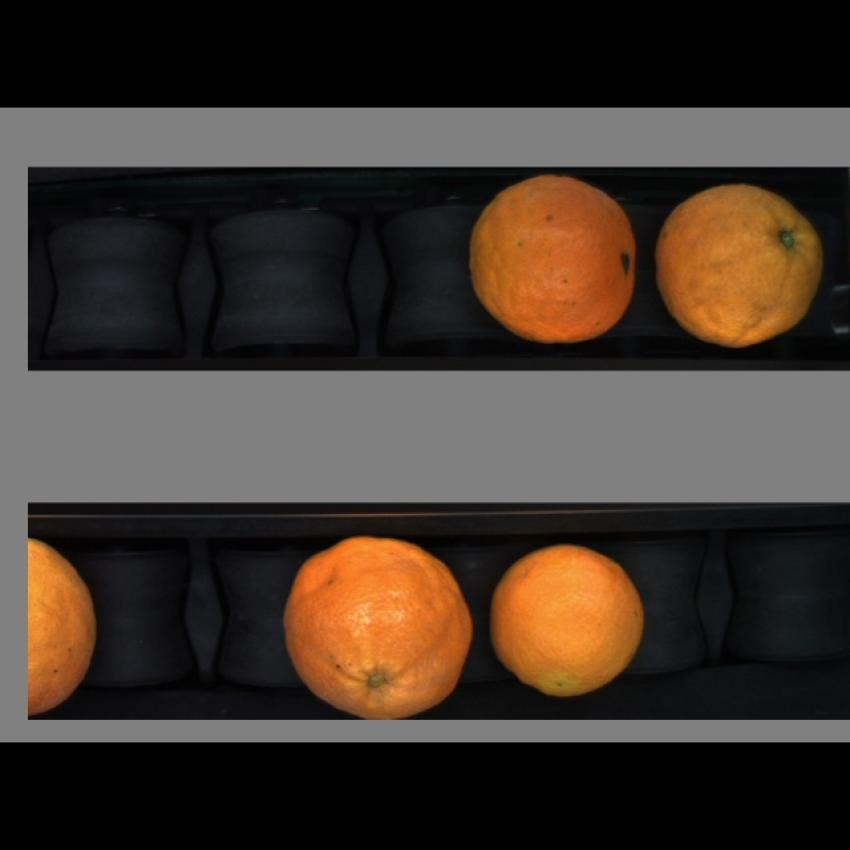Buen estado: (484, 540, 656, 705), (26, 536, 98, 718)
Mal estado: (276, 537, 483, 720), (460, 169, 641, 350), (651, 177, 823, 358)
